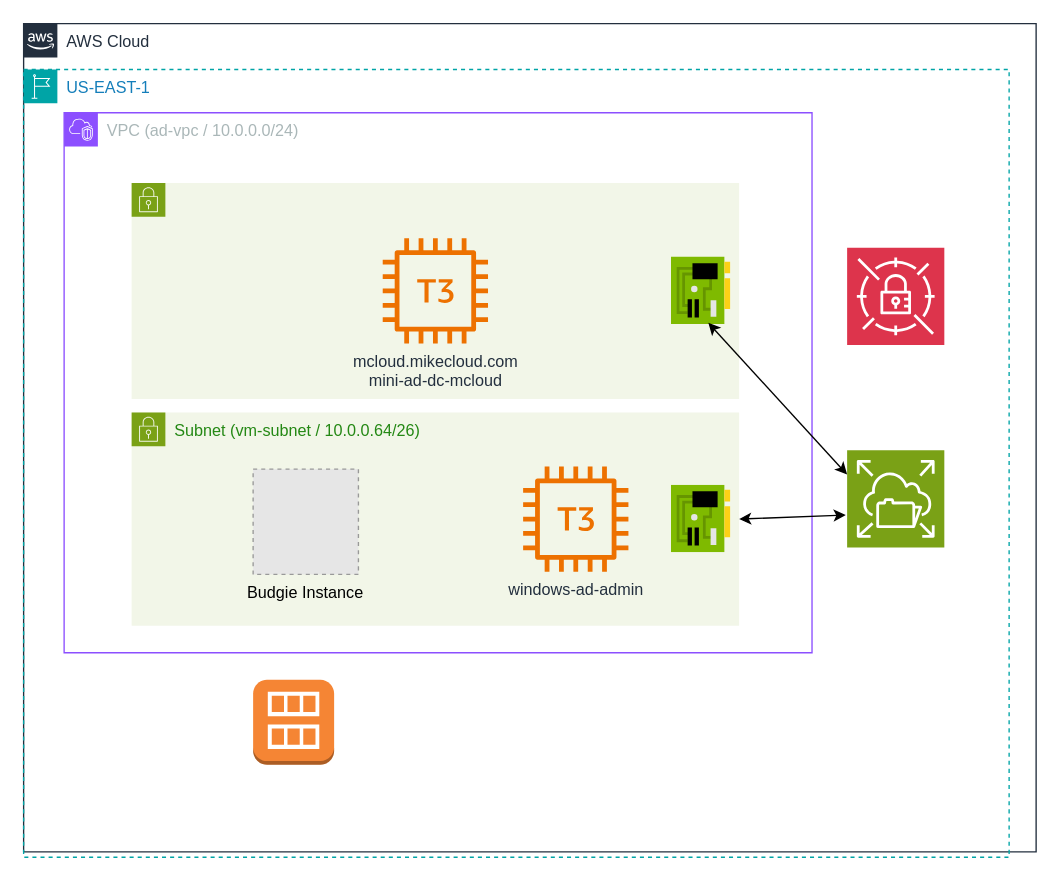
Image size: 1060x882. Some labels were removed from this diagram. Grey dashed boxes stand in for pictures. The box of each missing label's shape, as (x1, y1, x2, y2) in pixels:
Budgie AMI: (252, 678, 334, 765)
efs instance: (846, 449, 944, 547)
Secrets: (846, 246, 944, 345)
Subnet (ad-subnet / 10.0.0.0/26): (130, 182, 739, 399)
